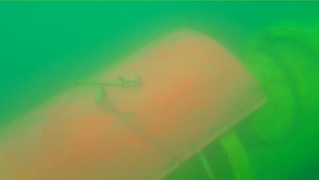leak: (1, 27, 267, 180)
pipe: (164, 20, 318, 180)
